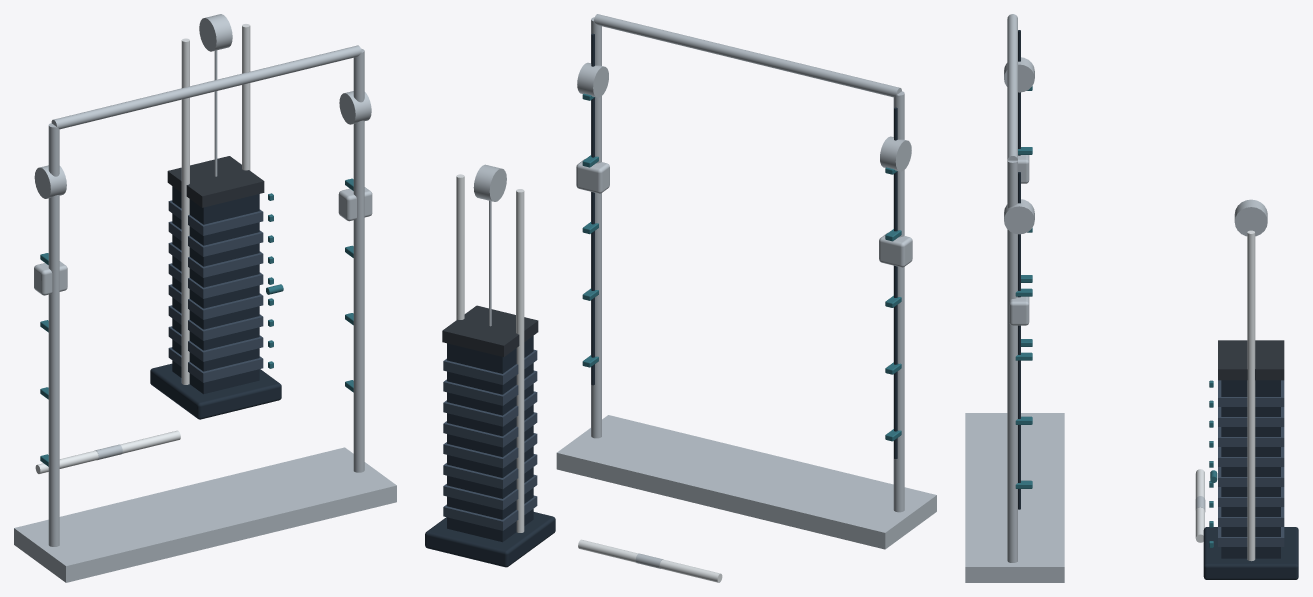
Rendered from cable_station.glb.
3 views of the same model, side by side, from view 1: azimuth 30°, elevation 25°; view 2: azimuth 150°, elevation 25°; view 3: azimuth 270°, elevation 25° (orthographic). The views are drawn at different scales.
Parts seen in each view (by area): view 1: base, cableUpright (×2), weightPlate (×8), stack, guide (×2), crossbar, stackBase, stackLift, pulley (×2), grip, loadPulley, Lcarriage (+1 smaller); view 2: base, weightPlate (×8), stack, cableUpright (×2), guide (×2), crossbar, stackBase, stackLift, pulley (×2), grip, LcableGuide, RcableGuide (+3 smaller); view 3: base, weightPlate (×8), stack, cableUpright, stackBase, guide, stackLift, crossbar, pulley (×2), loadPulley, RcableGuide, grip (+1 smaller).
Boxes of the visible parts, x1,y1,x2,y2 form: base: (14, 447, 396, 582); cableUpright (×2): (48, 48, 364, 546); weightPlate (×8): (168, 200, 263, 382); stack: (172, 186, 259, 394); guide (×2): (181, 24, 250, 384); crossbar: (51, 45, 361, 129); stackBase: (150, 363, 281, 419); stackLift: (167, 156, 264, 207); pulley (×2): (34, 91, 371, 198); grip: (35, 430, 180, 473); loadPulley: (199, 14, 232, 51); Lcarriage: (34, 261, 67, 295); base: (556, 415, 936, 549); weightPlate (×8): (443, 349, 537, 530); stack: (447, 336, 533, 542); cableUpright (×2): (591, 17, 904, 512); guide (×2): (456, 174, 524, 532); crossbar: (594, 14, 901, 97); stackBase: (425, 512, 555, 567); stackLift: (442, 305, 538, 356); pulley (×2): (577, 62, 911, 171); grip: (578, 539, 722, 582); LcableGuide: (894, 107, 897, 458); RcableGuide: (591, 33, 594, 385); base: (965, 413, 1064, 582); weightPlate (×8): (1218, 380, 1284, 546); stack: (1221, 380, 1280, 558); cableUpright: (1007, 160, 1017, 562); stackBase: (1203, 527, 1298, 579); guide: (1247, 230, 1255, 561); stackLift: (1218, 340, 1284, 380); crossbar: (1007, 14, 1017, 160); pulley (×2): (1004, 57, 1034, 234); loadPulley: (1234, 199, 1267, 236); RcableGuide: (1018, 172, 1020, 509); grip: (1195, 469, 1204, 542).
Bounding box in the file's own units: 1.72 × 2.13 × 1.51.
